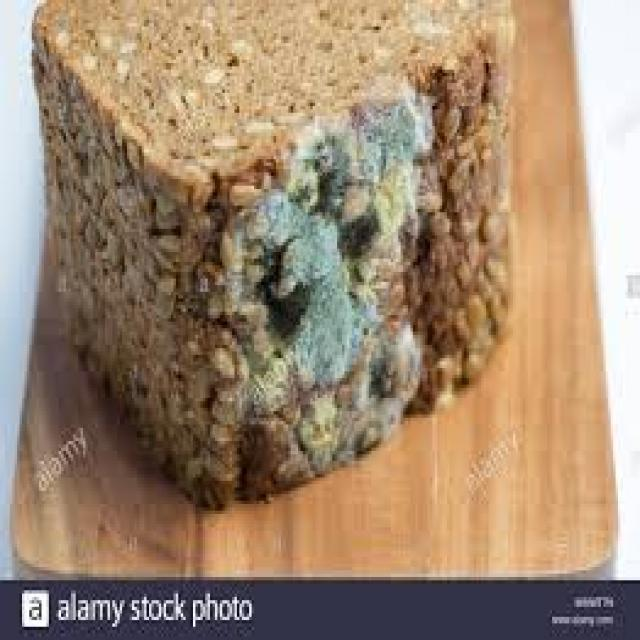organic waste: (29, 0, 513, 504)
